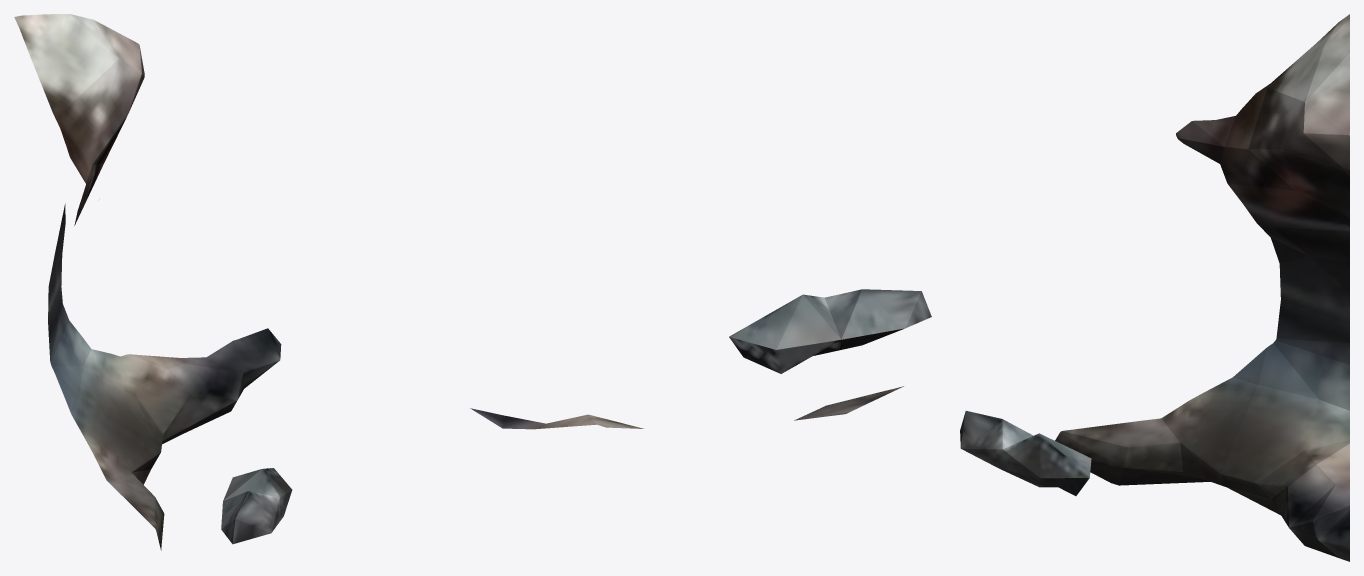
3 views of the same model, side by side, from view 1: azimuth 30°, elevation 25°; view 2: azimuth 150°, elevation 25°; view 3: azimuth 270°, elevation 25° (orthographic). The views are drawn at different scales.
Size of the model in its own units: 0.2166 by 0.3096 by 0.2284.
Materials: 1 (1 with a texture image).
